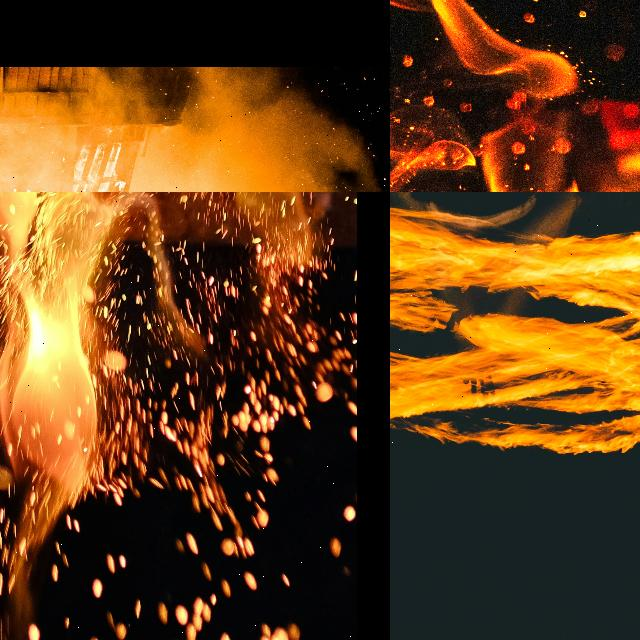fire: (0, 192, 318, 601), (390, 203, 640, 453), (390, 0, 640, 192), (0, 96, 374, 192)
